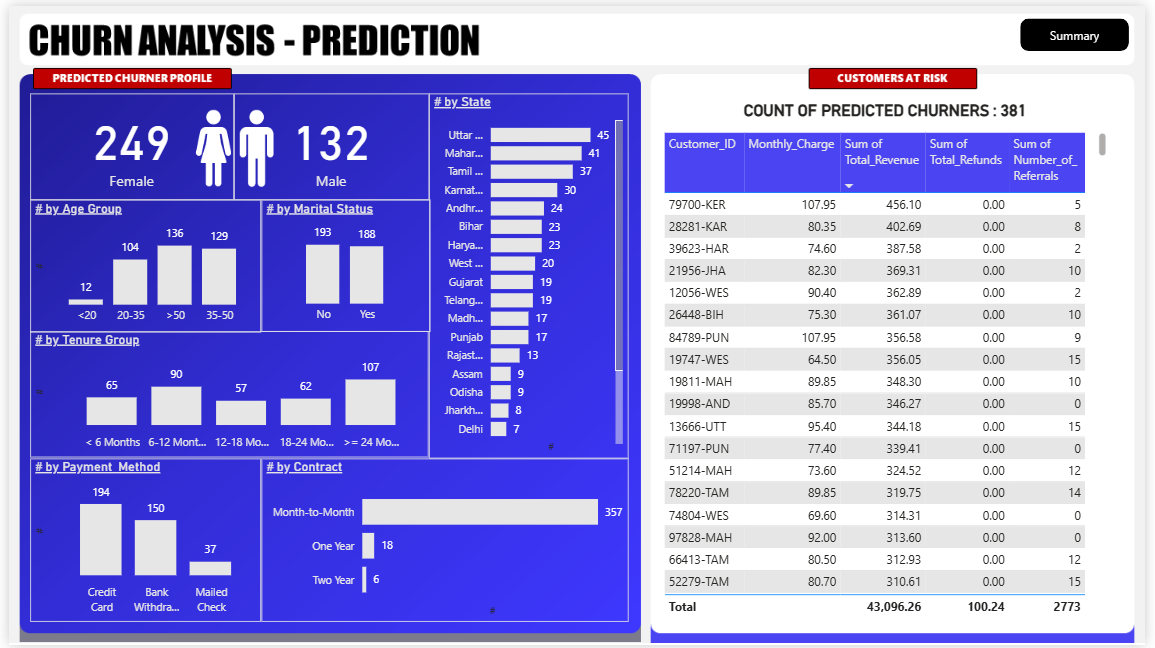

This screenshot's page, from the dashboard's own definition file:
{"tool":"powerbi","page":{"name":"Churn Prediction","canvas":[1280,720],"ordinal":2},"visuals":[{"type":"image","box":[104.3,99.4,300.6,119],"z":0},{"type":"tableEx","fields":{"Values":["Predictions.Customer_ID","Predictions.Monthly_Charge","Sum(Predictions.Total_Revenue)","Sum(Predictions.Total_Refunds)","Sum(Predictions.Number_of_Referrals)"]},"box":[732.5,138.7,509.2,554.6],"z":1000},{"type":"card","fields":{"Values":["tbl_Measures.Title Predicted Churner"]},"box":[787.7,98.2,400,40],"z":2000},{"type":"card","fields":{"Values":["tbl_Measures.Count Predicted Churner"]},"box":[24.5,98.2,229.4,120.2],"z":3000},{"type":"card","fields":{"Values":["tbl_Measures.Count Predicted Churner"]},"box":[254,98.2,219.6,120.2],"z":4000},{"type":"clusteredColumnChart","fields":{"Category":["mapping_AgeGrp.Age Group"],"Y":["CountNonNull(Predictions.Customer_ID)"]},"box":[24.5,218.4,260.1,149.7],"z":5000},{"type":"clusteredColumnChart","fields":{"Y":["CountNonNull(Predictions.Customer_ID)"],"Category":["Predictions.Married"]},"box":[284.7,218.4,190.2,148.5],"z":6000},{"type":"clusteredColumnChart","fields":{"Y":["CountNonNull(Predictions.Customer_ID)"],"Category":["mapping_TenureGrp.Tenure Group"]},"box":[24.5,366.9,449.1,142.3],"z":7000},{"type":"clusteredColumnChart","fields":{"Y":["CountNonNull(Predictions.Customer_ID)"],"Category":["Predictions.Payment_Method"]},"box":[24.5,509.2,260.1,184.1],"z":8000},{"type":"clusteredBarChart","fields":{"Category":["Predictions.Contract"],"Y":["CountNonNull(Predictions.Customer_ID)"]},"box":[284.7,509.2,413.5,184.1],"z":9000},{"type":"clusteredBarChart","fields":{"Y":["CountNonNull(Predictions.Customer_ID)"],"Category":["Predictions.State"]},"box":[473.6,98.2,224.5,411],"z":10000},{"type":"shape","box":[1139.9,13.5,122.7,36.8],"z":11000}]}

Visuals, with their boxes in screenshot pixels (x1, y1, x2, y2), scaled from the page's 1280x720 canvas onto the 1155x648 screenshot:
image: box=[94, 89, 365, 197]
tableEx - Predictions.Customer_ID x Predictions.Monthly_Charge: box=[661, 125, 1120, 624]
card - tbl_Measures.Title Predicted Churner: box=[711, 88, 1072, 124]
card - tbl_Measures.Count Predicted Churner: box=[22, 88, 229, 197]
card - tbl_Measures.Count Predicted Churner: box=[229, 88, 427, 197]
clusteredColumnChart - mapping_AgeGrp.Age Group x CountNonNull(Predictions.Customer_ID): box=[22, 197, 257, 331]
clusteredColumnChart - CountNonNull(Predictions.Customer_ID) x Predictions.Married: box=[257, 197, 429, 330]
clusteredColumnChart - CountNonNull(Predictions.Customer_ID) x mapping_TenureGrp.Tenure Group: box=[22, 330, 427, 458]
clusteredColumnChart - CountNonNull(Predictions.Customer_ID) x Predictions.Payment_Method: box=[22, 458, 257, 624]
clusteredBarChart - Predictions.Contract x CountNonNull(Predictions.Customer_ID): box=[257, 458, 630, 624]
clusteredBarChart - CountNonNull(Predictions.Customer_ID) x Predictions.State: box=[427, 88, 630, 458]
shape: box=[1029, 12, 1139, 45]
